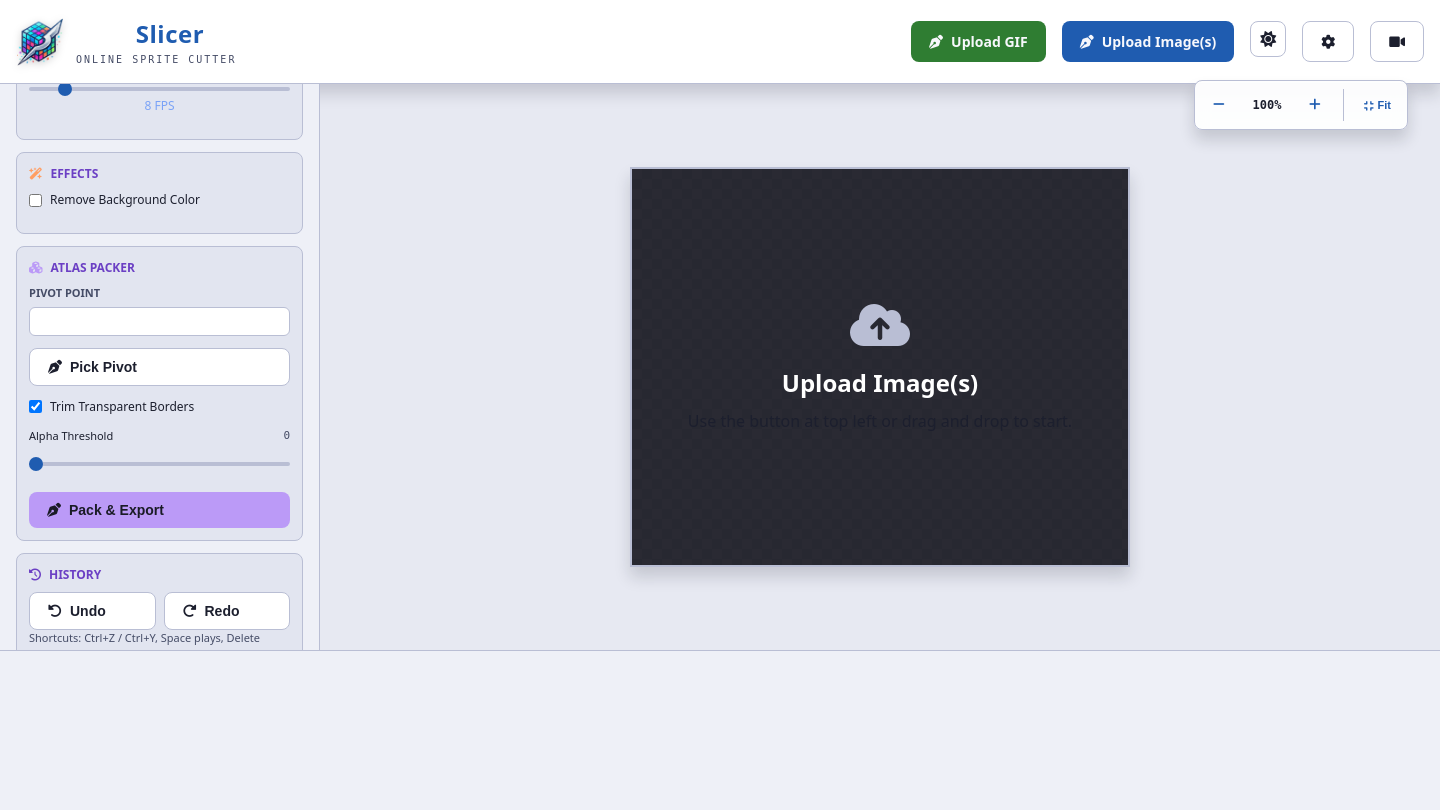
Test: App sidebar controls › toggles the pivot picking mode
The width and height of the screenshot is (1440, 810).
(page scrolled)
Click the button "Pick Pivot" at (103, 366), box [29,348,290,386]
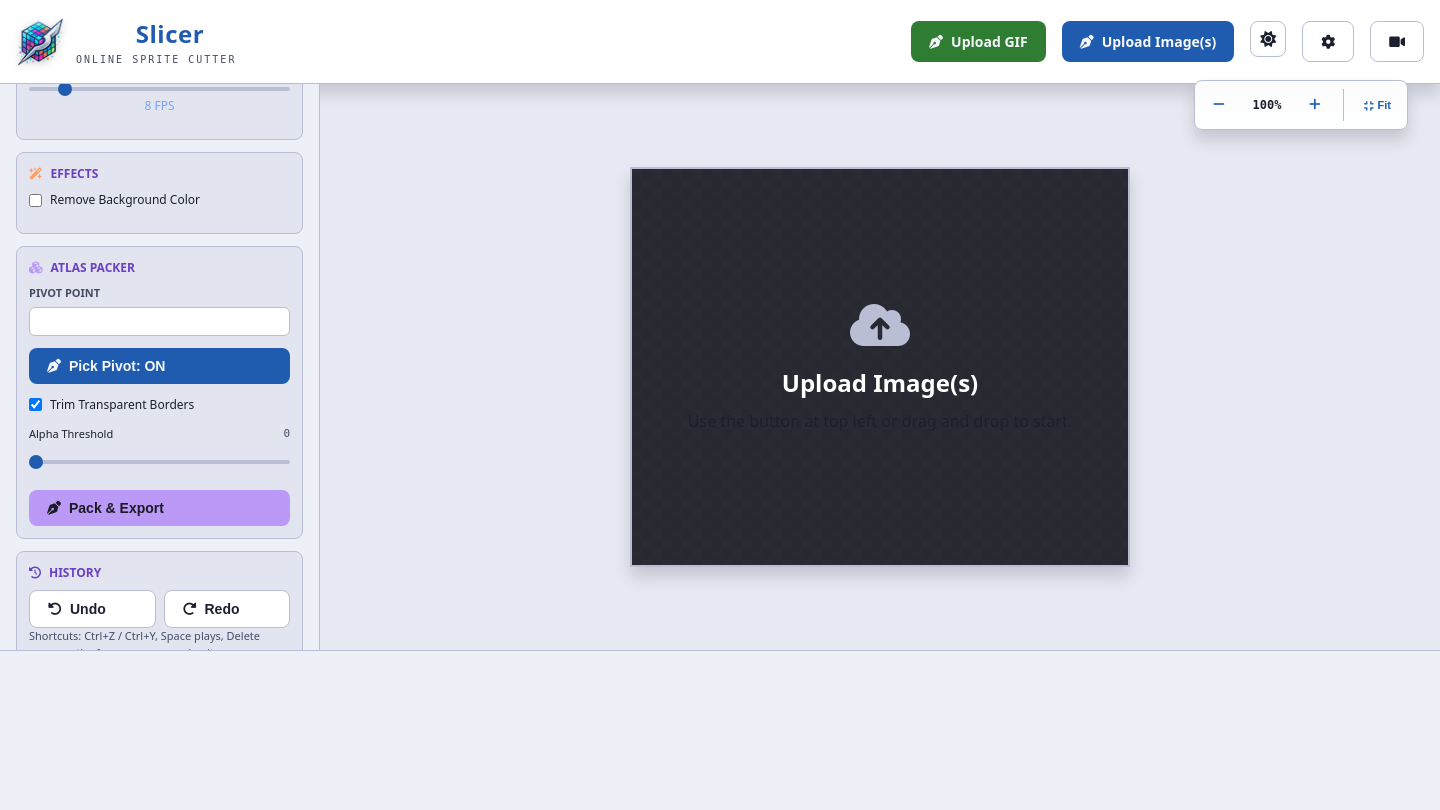
Result: the text "Pick Pivot: ON" is shown at [29,348,290,384]
